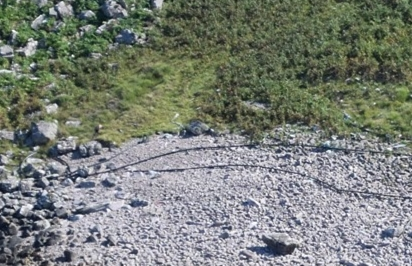tube: (323, 140, 408, 154), (86, 157, 148, 175), (336, 184, 411, 198), (160, 143, 222, 157), (228, 160, 292, 173), (236, 137, 304, 149), (295, 171, 334, 188), (154, 163, 220, 173)
